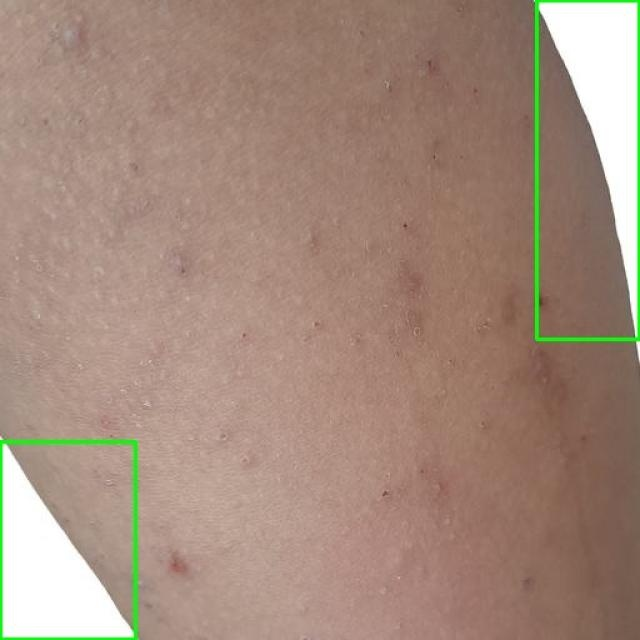Scabies: (536, 0, 639, 339), (0, 441, 135, 639)
